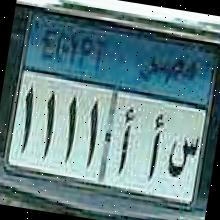1: (12, 75, 41, 157), (34, 85, 62, 164), (78, 94, 105, 175), (58, 90, 84, 166)
alif: (140, 107, 170, 190), (111, 100, 138, 180)
seen: (158, 116, 204, 191)
